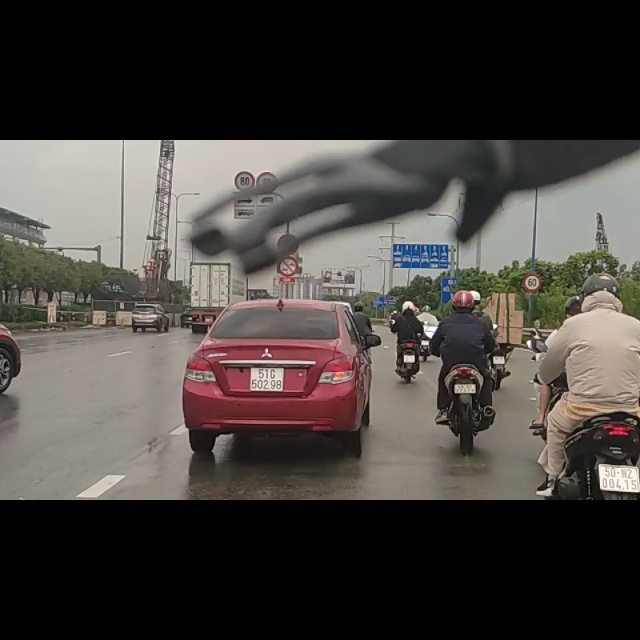bien_cam: (523, 237, 542, 270)
